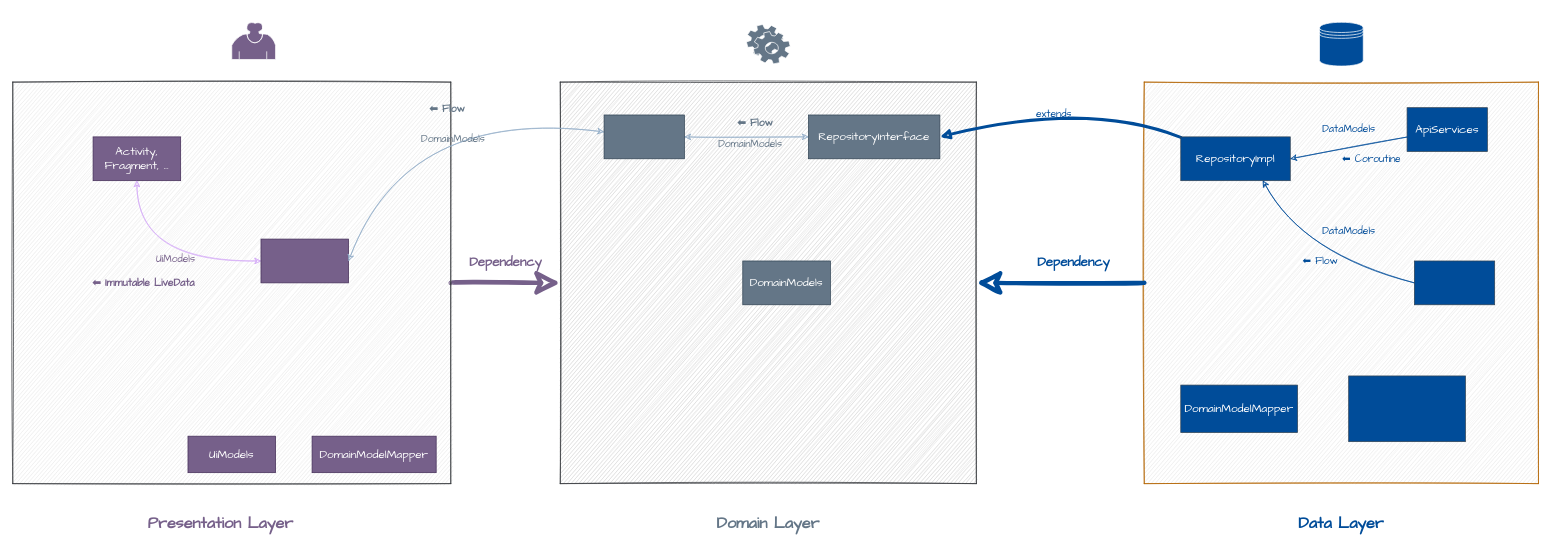
The diagram is 1551 pixels wide and 551 high, and some of its shapes have lost their labels. Each missing label, with the box of its shape:
DAOs: (1414, 260, 1495, 305)
DataModels (ApiModels, DBModels, ...): (1348, 375, 1465, 442)
UseCase: (603, 114, 684, 159)
ViewModel: (260, 238, 349, 283)
